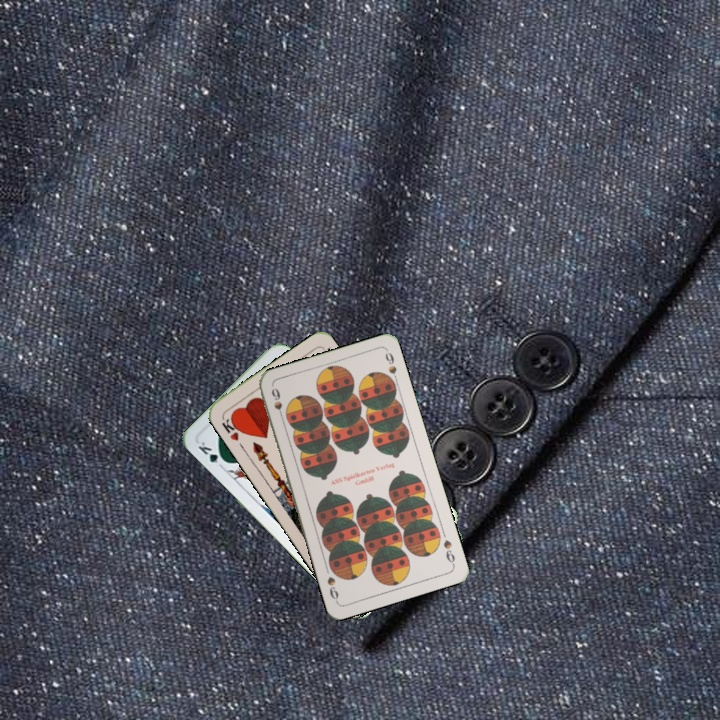GK: (194, 438, 230, 467)
HK: (218, 412, 245, 444)
S9: (267, 384, 286, 423), (439, 536, 457, 568)
